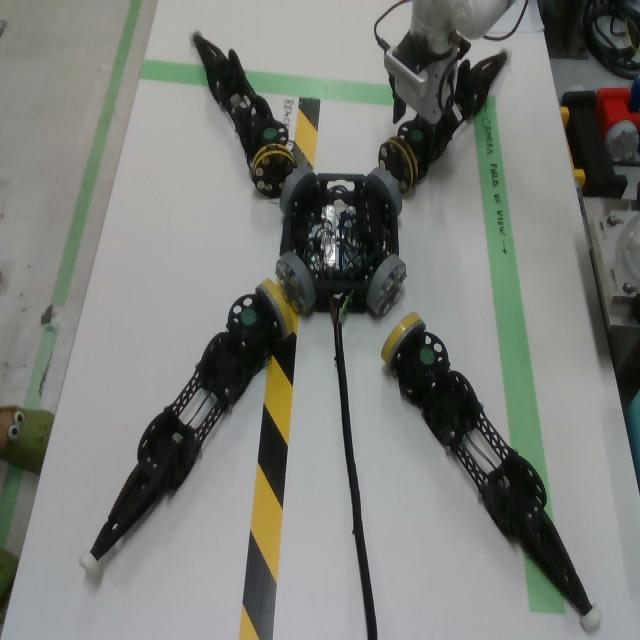body: (280, 175, 399, 315)
body_connector: (275, 252, 316, 315), (367, 255, 407, 317), (280, 165, 316, 213), (367, 167, 402, 216)
gripper: (389, 40, 471, 151)
leg: (380, 311, 603, 633), (80, 279, 294, 576), (379, 47, 513, 193), (187, 27, 298, 199)
leg_connector: (381, 312, 426, 371), (254, 279, 294, 340), (252, 144, 296, 199), (378, 136, 418, 193)
leg_marker: (241, 308, 257, 325), (420, 347, 435, 364), (263, 128, 277, 139), (411, 129, 424, 140)
